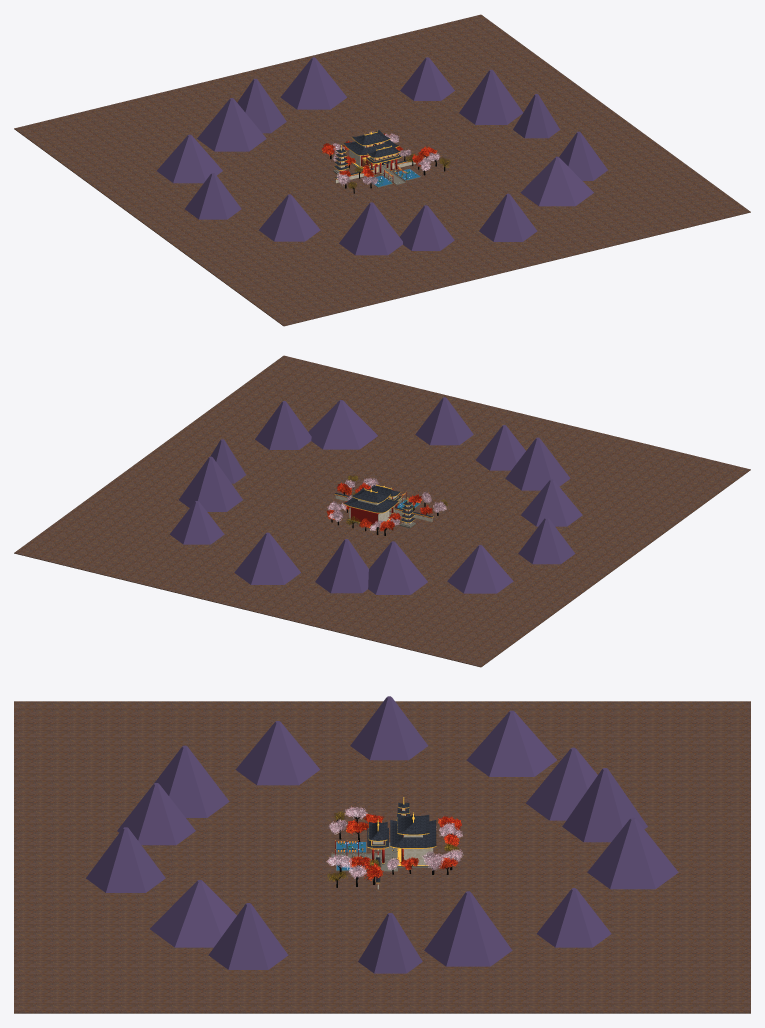
Rendered from kannon-temple-world.glb.
3 renders of one model, top to bottom at view 1: azimuth 30°, elevation 25°; view 2: azimuth 150°, elevation 25°; view 3: azimuth 270°, elevation 25°, orthographic. The views are drawn at different scales.
Visible parts, largest first — view 1: Temple ground, Temple mountain, Temple tile, Temple leaf_sakura, Temple leaf_maple; view 2: Temple ground, Temple mountain, Temple tile, Temple leaf_sakura, Temple leaf_maple; view 3: Temple ground, Temple mountain, Temple tile, Temple leaf_sakura, Temple leaf_maple, Temple stone.
Part boxes in pixels (box(x1,y1,x2,y2)): Temple ground: box(14, 14, 750, 326); Temple mountain: box(157, 57, 607, 255); Temple tile: box(334, 130, 425, 178); Temple leaf_sakura: box(331, 131, 440, 185); Temple leaf_maple: box(321, 133, 437, 177); Temple ground: box(14, 355, 750, 667); Temple mountain: box(169, 397, 582, 594); Temple tile: box(335, 485, 432, 522); Temple leaf_sakura: box(327, 478, 446, 530); Temple leaf_maple: box(326, 482, 432, 531); Temple ground: box(14, 701, 750, 1013); Temple mountain: box(86, 696, 678, 973); Temple tile: box(367, 802, 436, 882); Temple leaf_sakura: box(326, 806, 463, 878); Temple leaf_maple: box(346, 813, 461, 880); Temple stone: box(331, 842, 433, 871).
Bounding box in the file's own units: 260 × 29.48 × 260.
25 materials, 16 textured.
